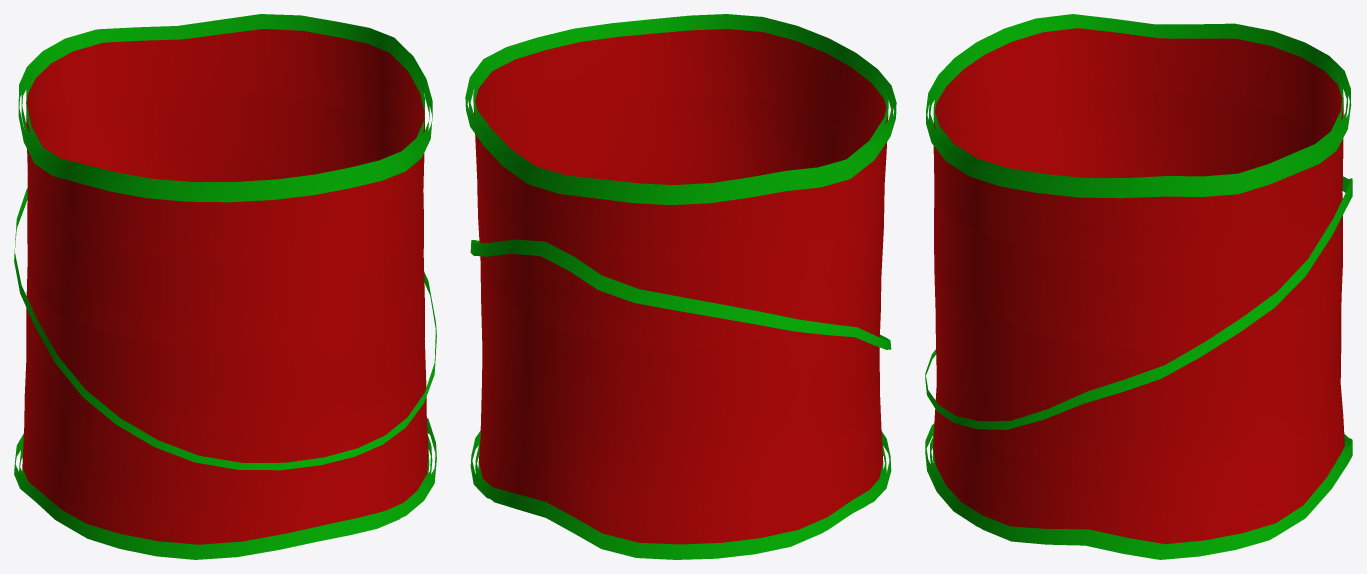
File: Pr_wipesTabletBody.fbx
The picture shows the model from 3 angles, left to right: view 1: azimuth 30°, elevation 25°; view 2: azimuth 150°, elevation 25°; view 3: azimuth 270°, elevation 25°; orthographic projection.
Parts seen in each view (by area): view 1: fx_wipeMichelTabletReader.001; view 2: fx_wipeMichelTabletReader.001; view 3: fx_wipeMichelTabletReader.001.
Boxes of the visible parts, bbox=[...] form: fx_wipeMichelTabletReader.001: bbox=[14, 14, 436, 559]; fx_wipeMichelTabletReader.001: bbox=[465, 14, 896, 559]; fx_wipeMichelTabletReader.001: bbox=[925, 14, 1352, 559].
Size of the model in its own units: 70.87 by 71 by 71.53.
